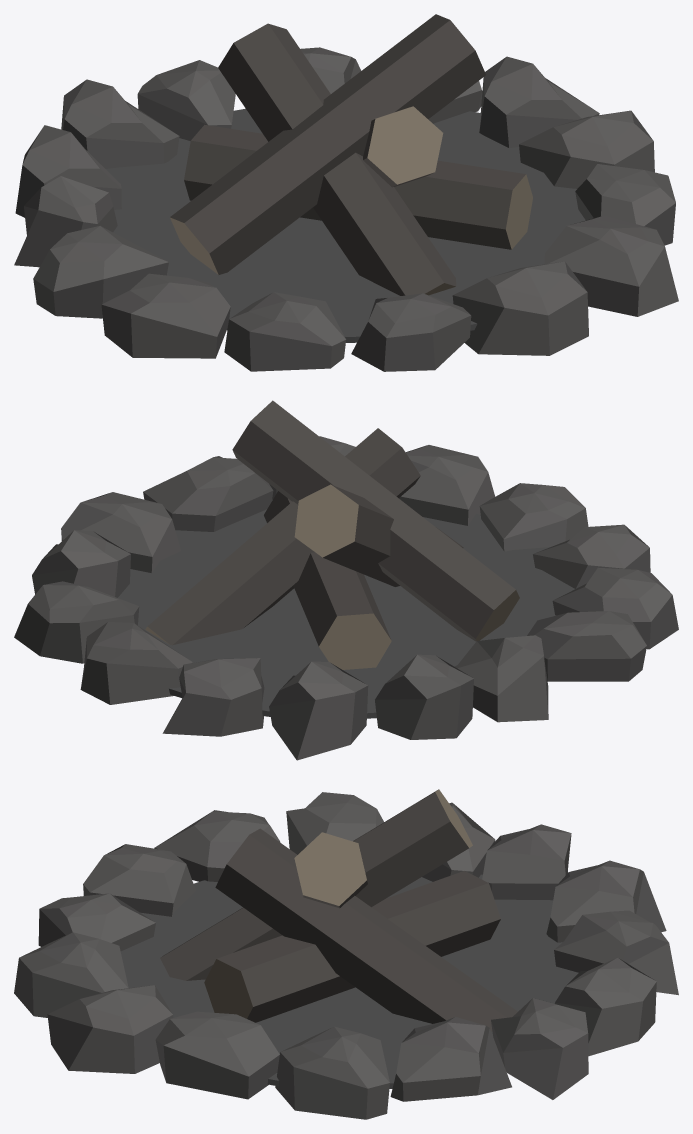
The model's file is Campfire(1).fbx.
The picture shows the model from 3 angles, top to bottom: view 1: azimuth 30°, elevation 25°; view 2: azimuth 150°, elevation 25°; view 3: azimuth 270°, elevation 25°; orthographic projection. The views are drawn at different scales.
Visible parts, largest first — view 1: pDisc2; view 2: pDisc2; view 3: pDisc2.
Boxes of the visible parts, bbox=[...] form: pDisc2: bbox=[14, 14, 678, 371]; pDisc2: bbox=[14, 400, 678, 760]; pDisc2: bbox=[14, 789, 678, 1119].
Size of the model in its own units: 5.76 by 2.21 by 5.77.
